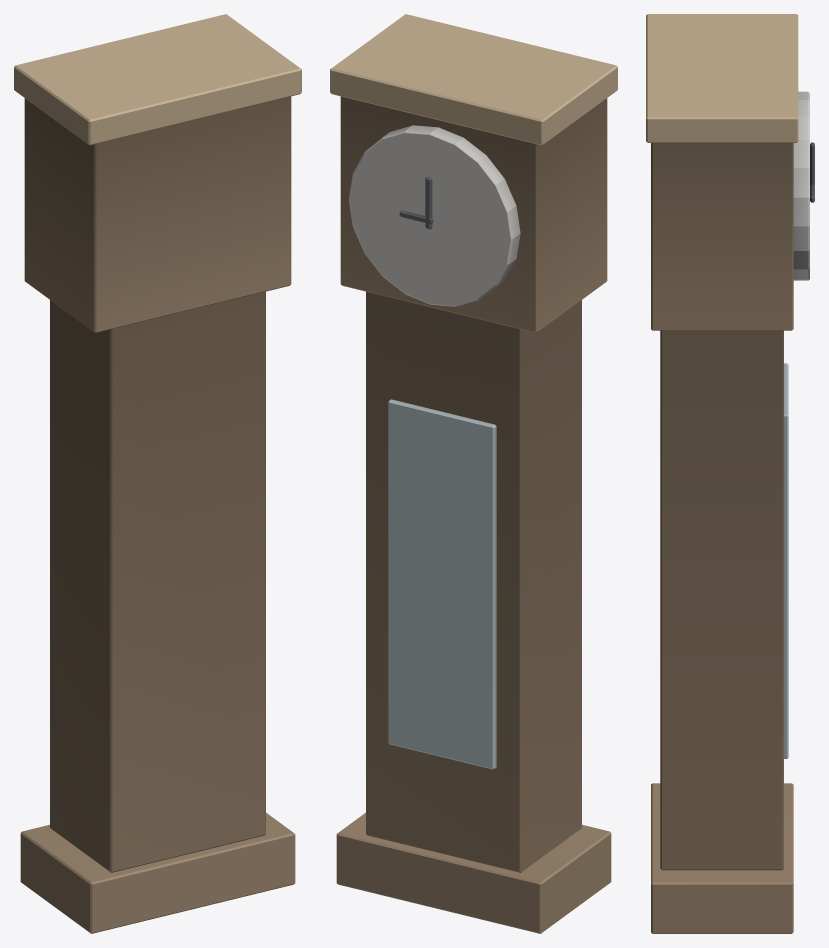
Rendered from furn_tall_clock__walnut.glb.
3 views of the same model, side by side, from view 1: azimuth 30°, elevation 25°; view 2: azimuth 150°, elevation 25°; view 3: azimuth 270°, elevation 25° (orthographic).
Bounding box in the file's own units: 0.52 × 1.9 × 0.355.
